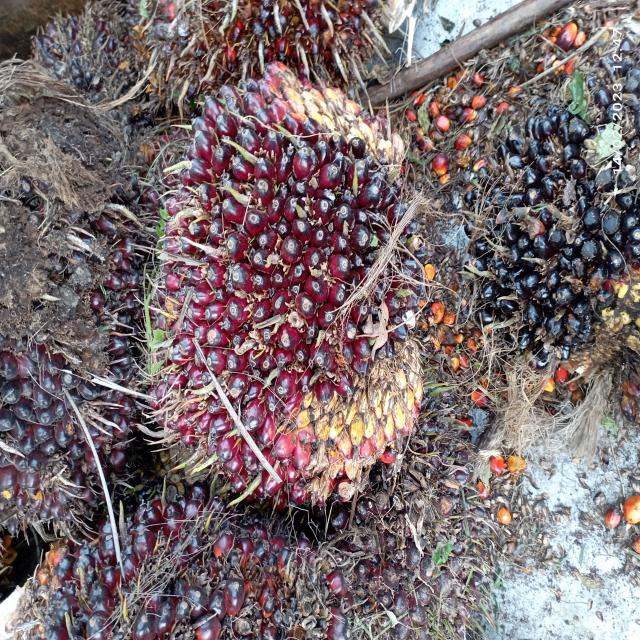fraksi 00: (0, 62, 154, 540), (482, 40, 640, 398)
fraksi 1: (127, 36, 435, 520)
